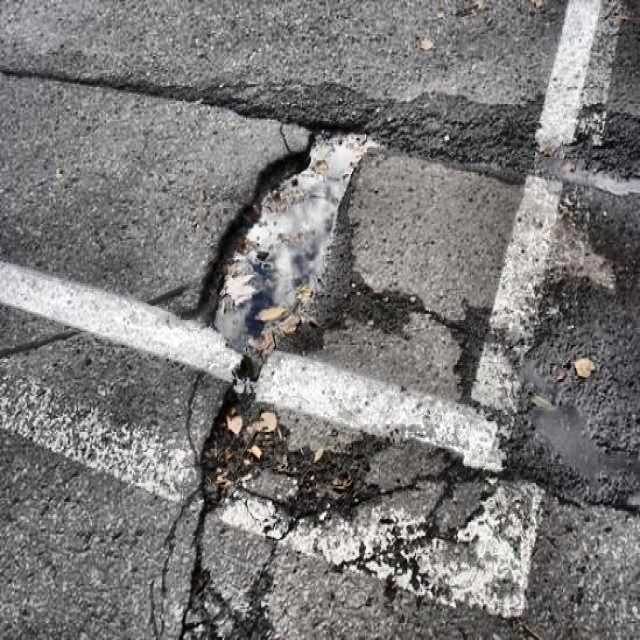Pothole: (193, 120, 372, 363)
